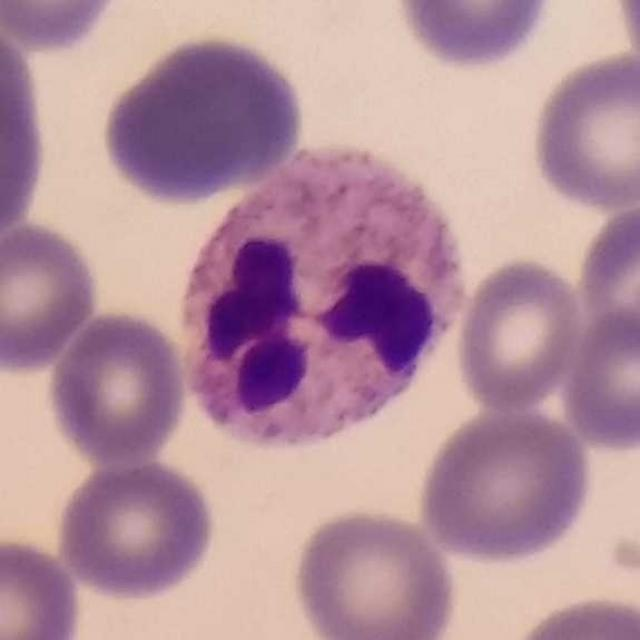Neutrophil: (166, 130, 476, 480)
RBC: (96, 29, 310, 207), (413, 403, 597, 568), (52, 456, 220, 604), (42, 306, 192, 468), (288, 504, 461, 640), (452, 253, 588, 413), (525, 48, 640, 214), (0, 218, 104, 375), (557, 301, 640, 456), (388, 0, 560, 73), (0, 26, 55, 250), (572, 197, 640, 354), (0, 532, 86, 640), (0, 0, 136, 55), (0, 4, 46, 157), (504, 589, 639, 640), (609, 1, 640, 81)
